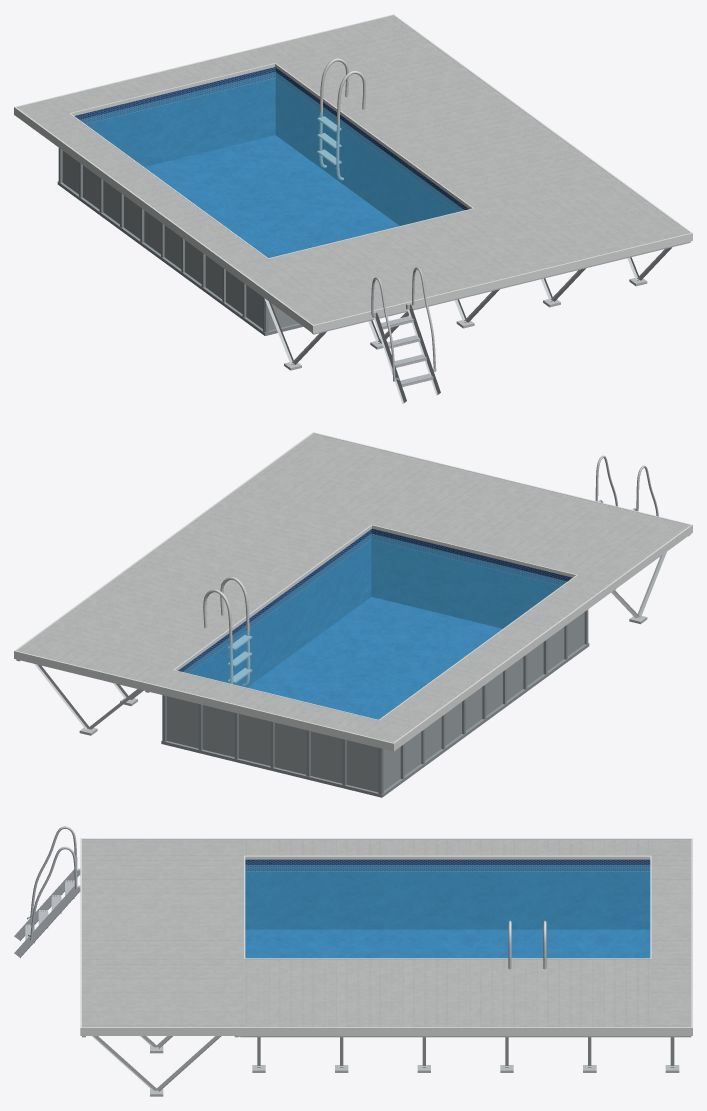
The model's file is kayak-pool-12x20-gray-endside-ag-nofence.95ba0a3ffd.glb.
3 renders of one model, top to bottom at view 1: azimuth 30°, elevation 25°; view 2: azimuth 150°, elevation 25°; view 3: azimuth 270°, elevation 25°, orthographic. The views are drawn at different scales.
Parts seen in each view (by area): view 1: deck, water, liner_wall, liner_floor, fascia, wall, upright, stud, ladder, steel; view 2: deck, water, liner_wall, liner_floor, wall, fascia, upright, stud, steel, ladder; view 3: deck, water, liner_wall, liner_floor, fascia, stud, ladder.
Boxes of the visible parts, x1=… form: deck: x1=17, y1=15, x2=689, y2=324; water: x1=80, y1=72, x2=463, y2=257; liner_wall: x1=74, y1=67, x2=468, y2=225; liner_floor: x1=145, y1=135, x2=399, y2=257; fascia: x1=14, y1=14, x2=692, y2=333; wall: x1=62, y1=151, x2=298, y2=330; upright: x1=57, y1=148, x2=303, y2=335; stud: x1=237, y1=241, x2=690, y2=370; ladder: x1=371, y1=267, x2=440, y2=403; steel: x1=317, y1=58, x2=365, y2=180; deck: x1=17, y1=433, x2=689, y2=742; water: x1=183, y1=533, x2=567, y2=719; liner_wall: x1=178, y1=528, x2=572, y2=687; liner_floor: x1=247, y1=597, x2=501, y2=719; wall: x1=166, y1=612, x2=584, y2=792; fascia: x1=14, y1=432, x2=692, y2=751; upright: x1=161, y1=609, x2=589, y2=797; stud: x1=16, y1=534, x2=690, y2=735; steel: x1=203, y1=577, x2=252, y2=686; ladder: x1=595, y1=455, x2=659, y2=557; deck: x1=82, y1=839, x2=691, y2=1027; water: x1=245, y1=865, x2=650, y2=958; liner_wall: x1=245, y1=859, x2=650, y2=929; liner_floor: x1=245, y1=929, x2=650, y2=958; fascia: x1=80, y1=838, x2=692, y2=1035; stud: x1=82, y1=1036, x2=691, y2=1096; ladder: x1=14, y1=826, x2=80, y2=957.
Size of the model in its own units: 6.71 by 1.9 by 10.13.
10 materials, 3 textured.
